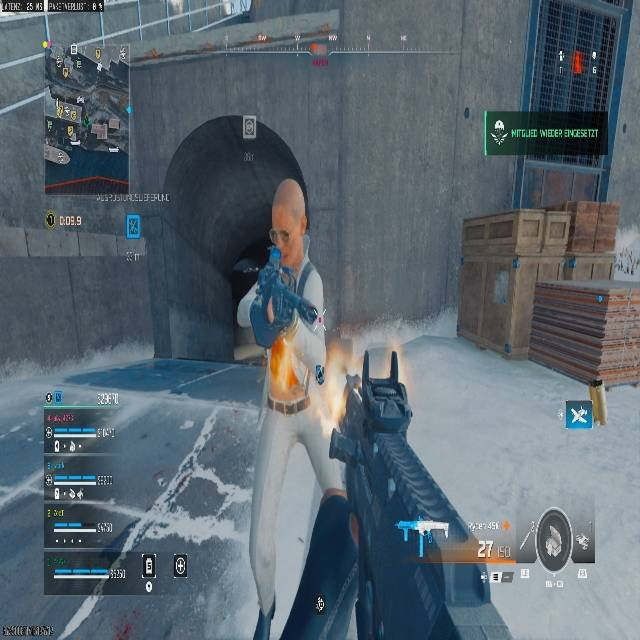head: (270, 179, 307, 258)
player: (228, 178, 326, 453)
